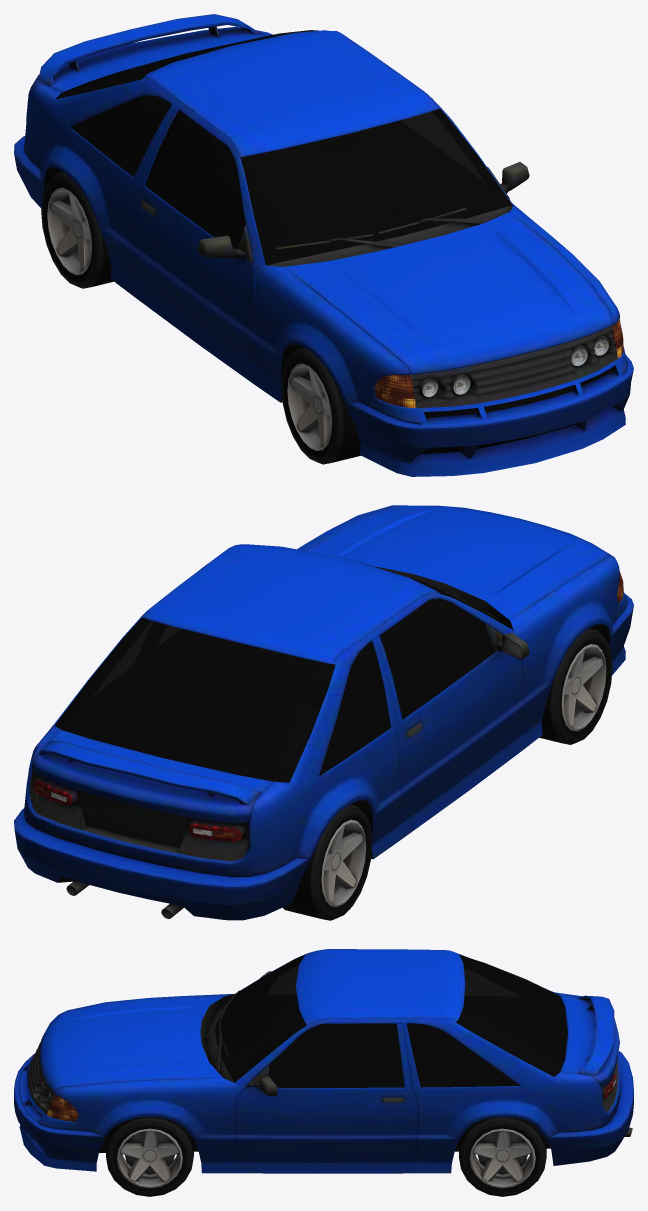
File: coupe.glb
3 renders of one model, top to bottom at view 1: azimuth 30°, elevation 25°; view 2: azimuth 150°, elevation 25°; view 3: azimuth 270°, elevation 25°, orthographic. The views are drawn at different scales.
Visible parts, largest first — view 1: Coupe Body, Wheel_F002, Wheel_F003; view 2: Coupe Body, Wheel_F003, Wheel_F002; view 3: Coupe Body, Wheel_F, Wheel_F001.
Boxes of the visible parts, x1,y1,x2,y2 form: Coupe Body: [14, 14, 633, 476]; Wheel_F002: [281, 348, 360, 464]; Wheel_F003: [41, 172, 113, 288]; Coupe Body: [14, 505, 633, 920]; Wheel_F003: [282, 804, 372, 920]; Wheel_F002: [539, 628, 612, 744]; Coupe Body: [14, 949, 633, 1173]; Wheel_F: [106, 1116, 193, 1196]; Wheel_F001: [459, 1117, 546, 1196].
Size of the model in its own units: 1.88 by 1.28 by 4.24.
4 materials, 3 textured.
